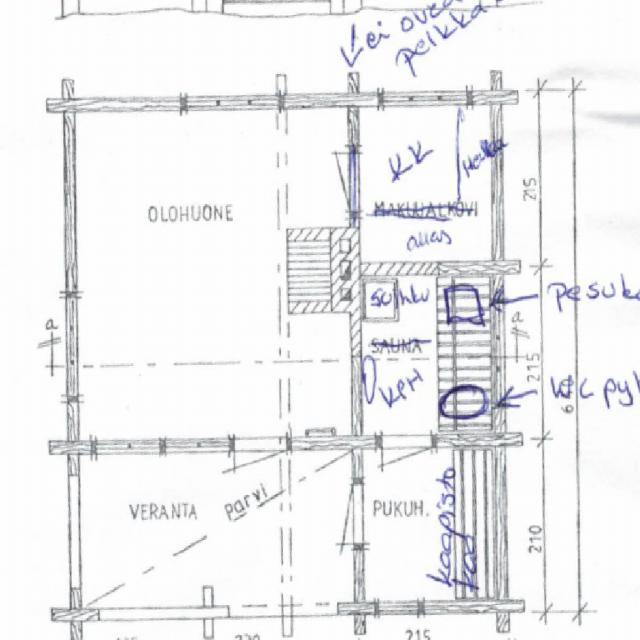door: (234, 441, 288, 519), (383, 441, 433, 515), (304, 484, 364, 544)
